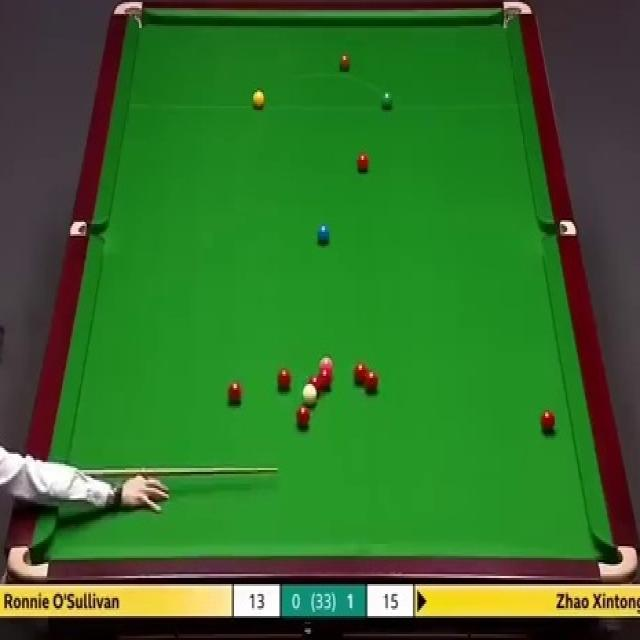blue-ball: (317, 224, 330, 243)
brown-ball: (338, 53, 350, 71)
green-ball: (380, 89, 393, 110)
pink-ball: (318, 358, 332, 373)
red-ball: (276, 364, 292, 392), (295, 405, 311, 430), (228, 380, 243, 405), (539, 410, 556, 431), (306, 374, 322, 396), (365, 371, 380, 394), (354, 362, 369, 384), (356, 153, 369, 174), (319, 371, 334, 387)
white-ball: (303, 386, 317, 406)
yellow-ball: (252, 90, 264, 108)
